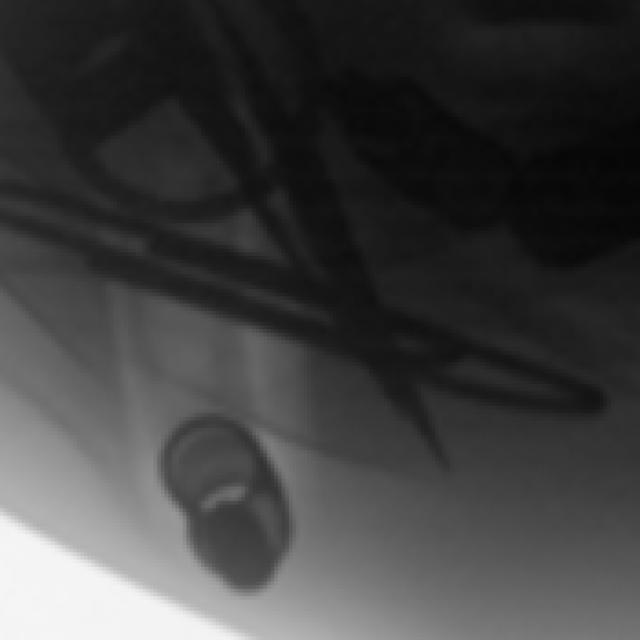BLADE: (156, 1, 477, 469)
